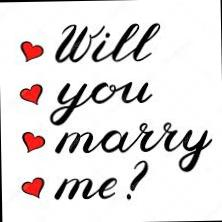text: (52, 121, 214, 176), (47, 80, 153, 126), (52, 21, 162, 63), (50, 159, 150, 203)
